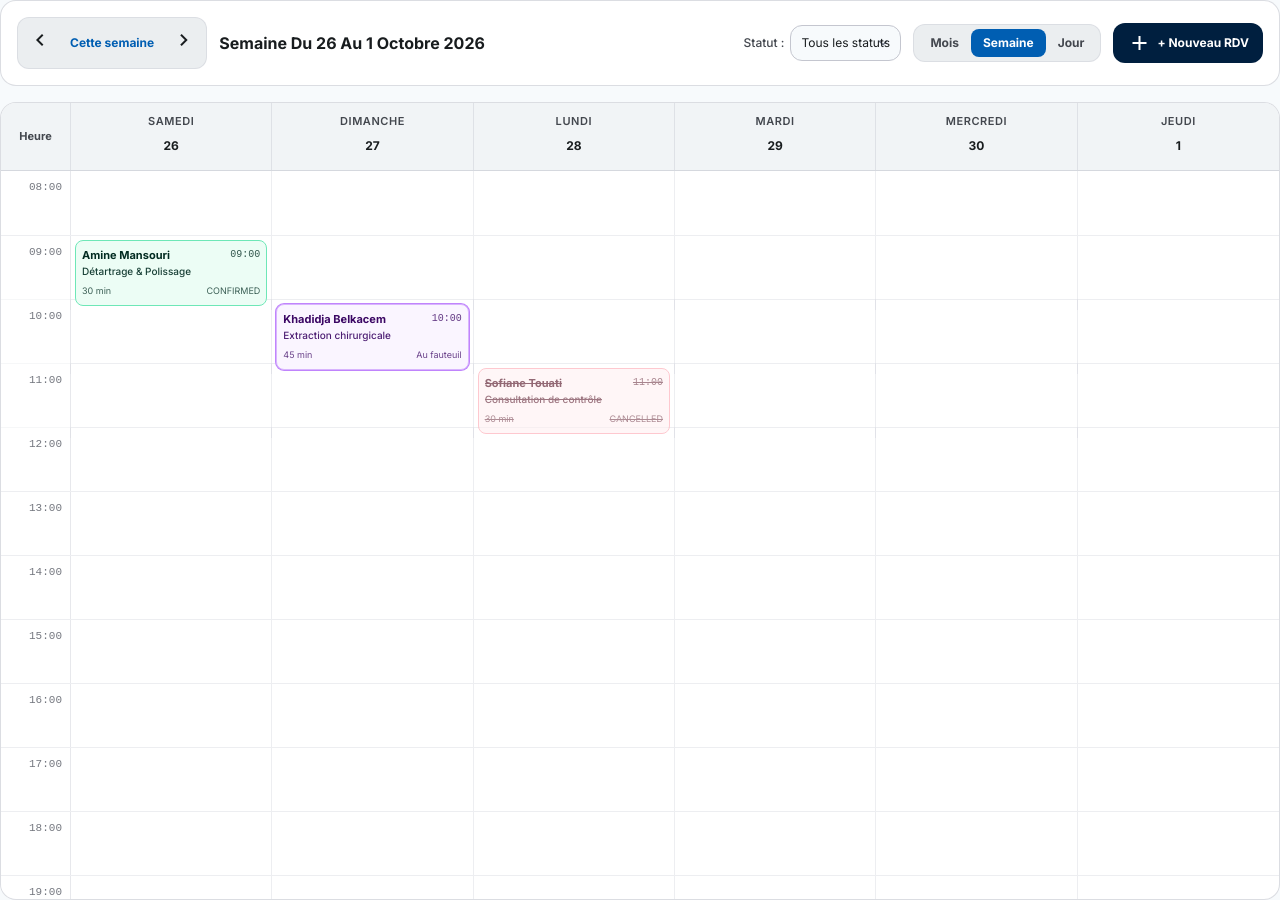
Test: FullCalendarView Frontend Tests (Month, Week, Day & Interactivity) › 1. Navigation & View Switching (MONTH, WEEK, DAY) › switches to MONTH view and updates grid structure with 7 Algerian day columns
The image size is (1280, 900).
# Click on Month switch button
Click the button "Mois": [945, 43] box [918, 29, 971, 57]
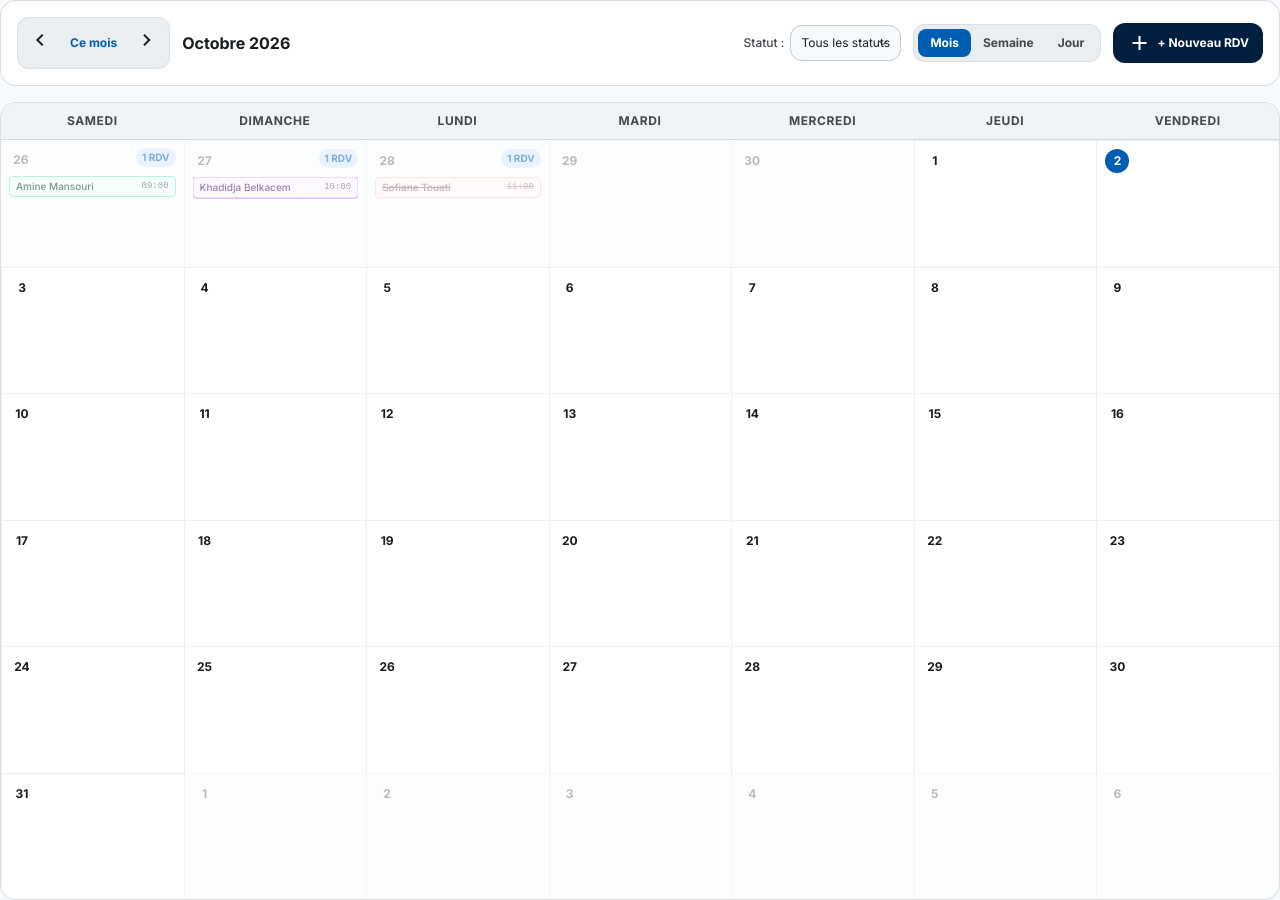
Expected: the text "Samedi" is shown, [67, 113, 118, 128]
Expected: the text "Vendredi" is shown, [1155, 113, 1221, 128]
Expected: the button "Ce mois" is shown, [58, 31, 129, 55]
